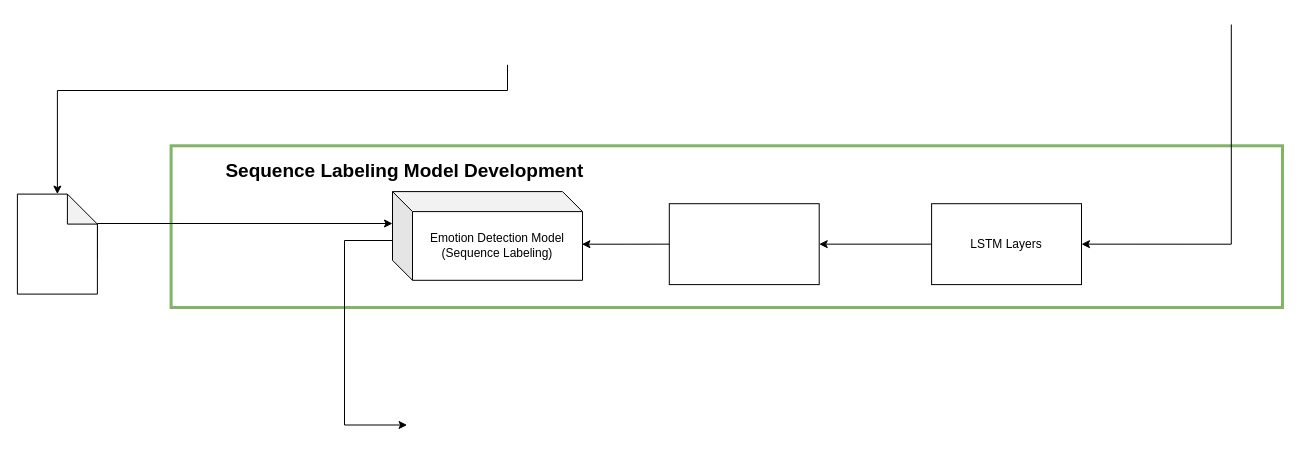
Some shapes in this 1302 by 451 pixel diagram are drawn without their labels. Here are the shapes that lost their labels. From the top down, the centre of each, then its label:
At (56,243): "Testing Set".
At (743,244): "Fully Connected Layers".
